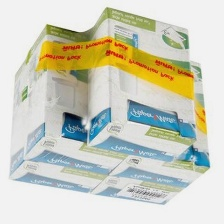book: (82, 3, 197, 165), (20, 22, 131, 177), (103, 47, 212, 190), (6, 49, 108, 195), (85, 75, 183, 207)
